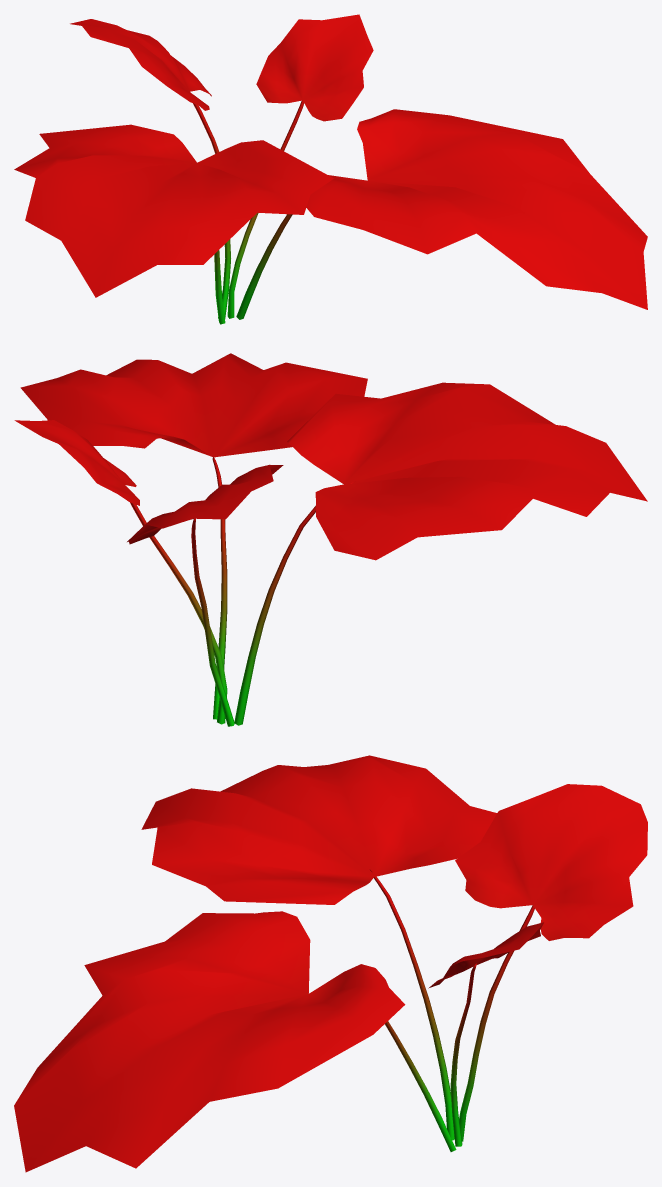
The model's file is Coltsfoot_LOD1_Var6_xbtkdfvqx.fbx.
3 renders of one model, top to bottom at view 1: azimuth 30°, elevation 25°; view 2: azimuth 150°, elevation 25°; view 3: azimuth 270°, elevation 25°, orthographic. The views are drawn at different scales.
Parts seen in each view (by area): view 1: _2khs_Var6_LOD1; view 2: _2khs_Var6_LOD1; view 3: _2khs_Var6_LOD1.
Boxes of the visible parts, x1,y1,x2,y2 form: _2khs_Var6_LOD1: (14,14,647,324); _2khs_Var6_LOD1: (14,353,647,726); _2khs_Var6_LOD1: (14,755,647,1172).
Bounding box in the file's own units: 38.34 × 18.36 × 33.84.
